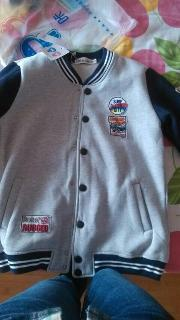long sleeve top: (0, 47, 180, 281)
trousers: (0, 268, 175, 320)
